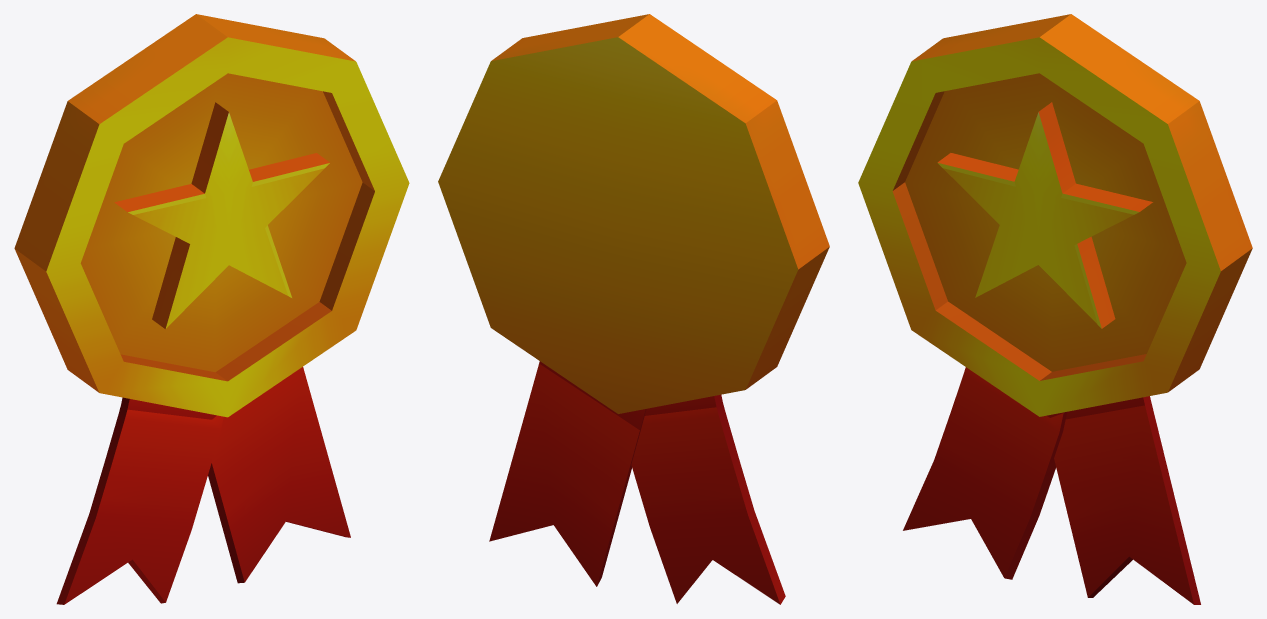
Rendered from toprunGold.glb.
The picture shows the model from 3 angles, left to right: view 1: azimuth 30°, elevation 25°; view 2: azimuth 150°, elevation 25°; view 3: azimuth 330°, elevation 25°; orthographic projection.
Visible parts, largest first — view 1: toprunGold; view 2: toprunGold; view 3: toprunGold.
Part boxes in pixels (left/top/right/bottom): toprunGold: left=14, top=14, right=409, bottom=604; toprunGold: left=438, top=14, right=829, bottom=604; toprunGold: left=858, top=14, right=1252, bottom=604.
Bounding box in the file's own units: 6.33 × 9.49 × 0.9933.
1 material, 1 textured.
